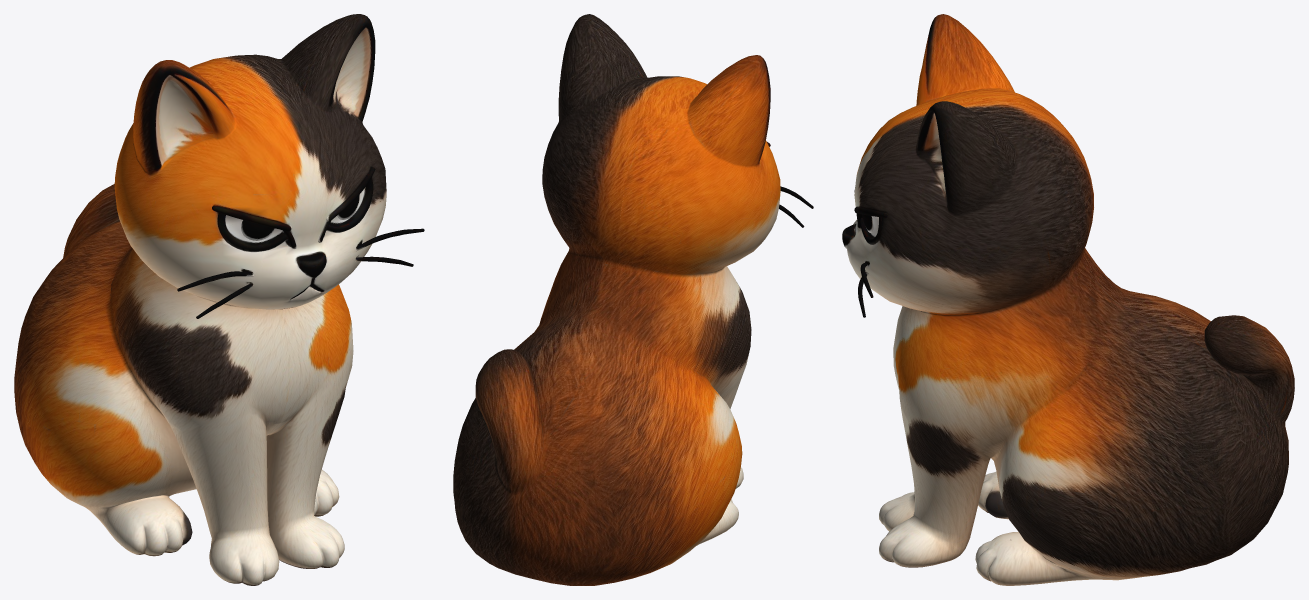
Rendered from second.obj.
The picture shows the model from 3 angles, left to right: view 1: azimuth 30°, elevation 25°; view 2: azimuth 150°, elevation 25°; view 3: azimuth 270°, elevation 25°; orthographic projection. The views are drawn at different scales.
Parts seen in each view (by area): view 1: tripo_91796082_2566_4c3e_a42a_e0ed12ff28f4; view 2: tripo_91796082_2566_4c3e_a42a_e0ed12ff28f4; view 3: tripo_91796082_2566_4c3e_a42a_e0ed12ff28f4.
Part boxes in pixels (x1=…): tripo_91796082_2566_4c3e_a42a_e0ed12ff28f4: x1=14, y1=14, x2=424, y2=585; tripo_91796082_2566_4c3e_a42a_e0ed12ff28f4: x1=453, y1=14, x2=813, y2=585; tripo_91796082_2566_4c3e_a42a_e0ed12ff28f4: x1=842, y1=14, x2=1294, y2=585.
Bounding box in the file's own units: 0.5552 × 0.9995 × 0.8481.
1 material, 1 textured.
